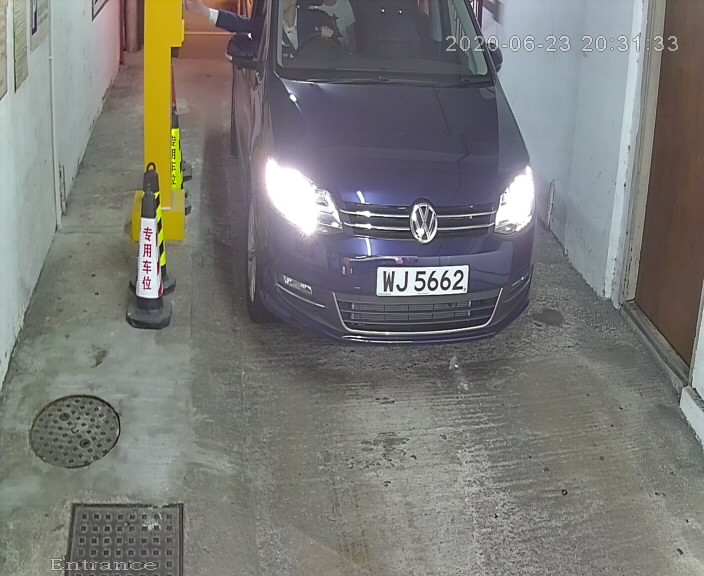privatecar: (217, 2, 545, 356)
